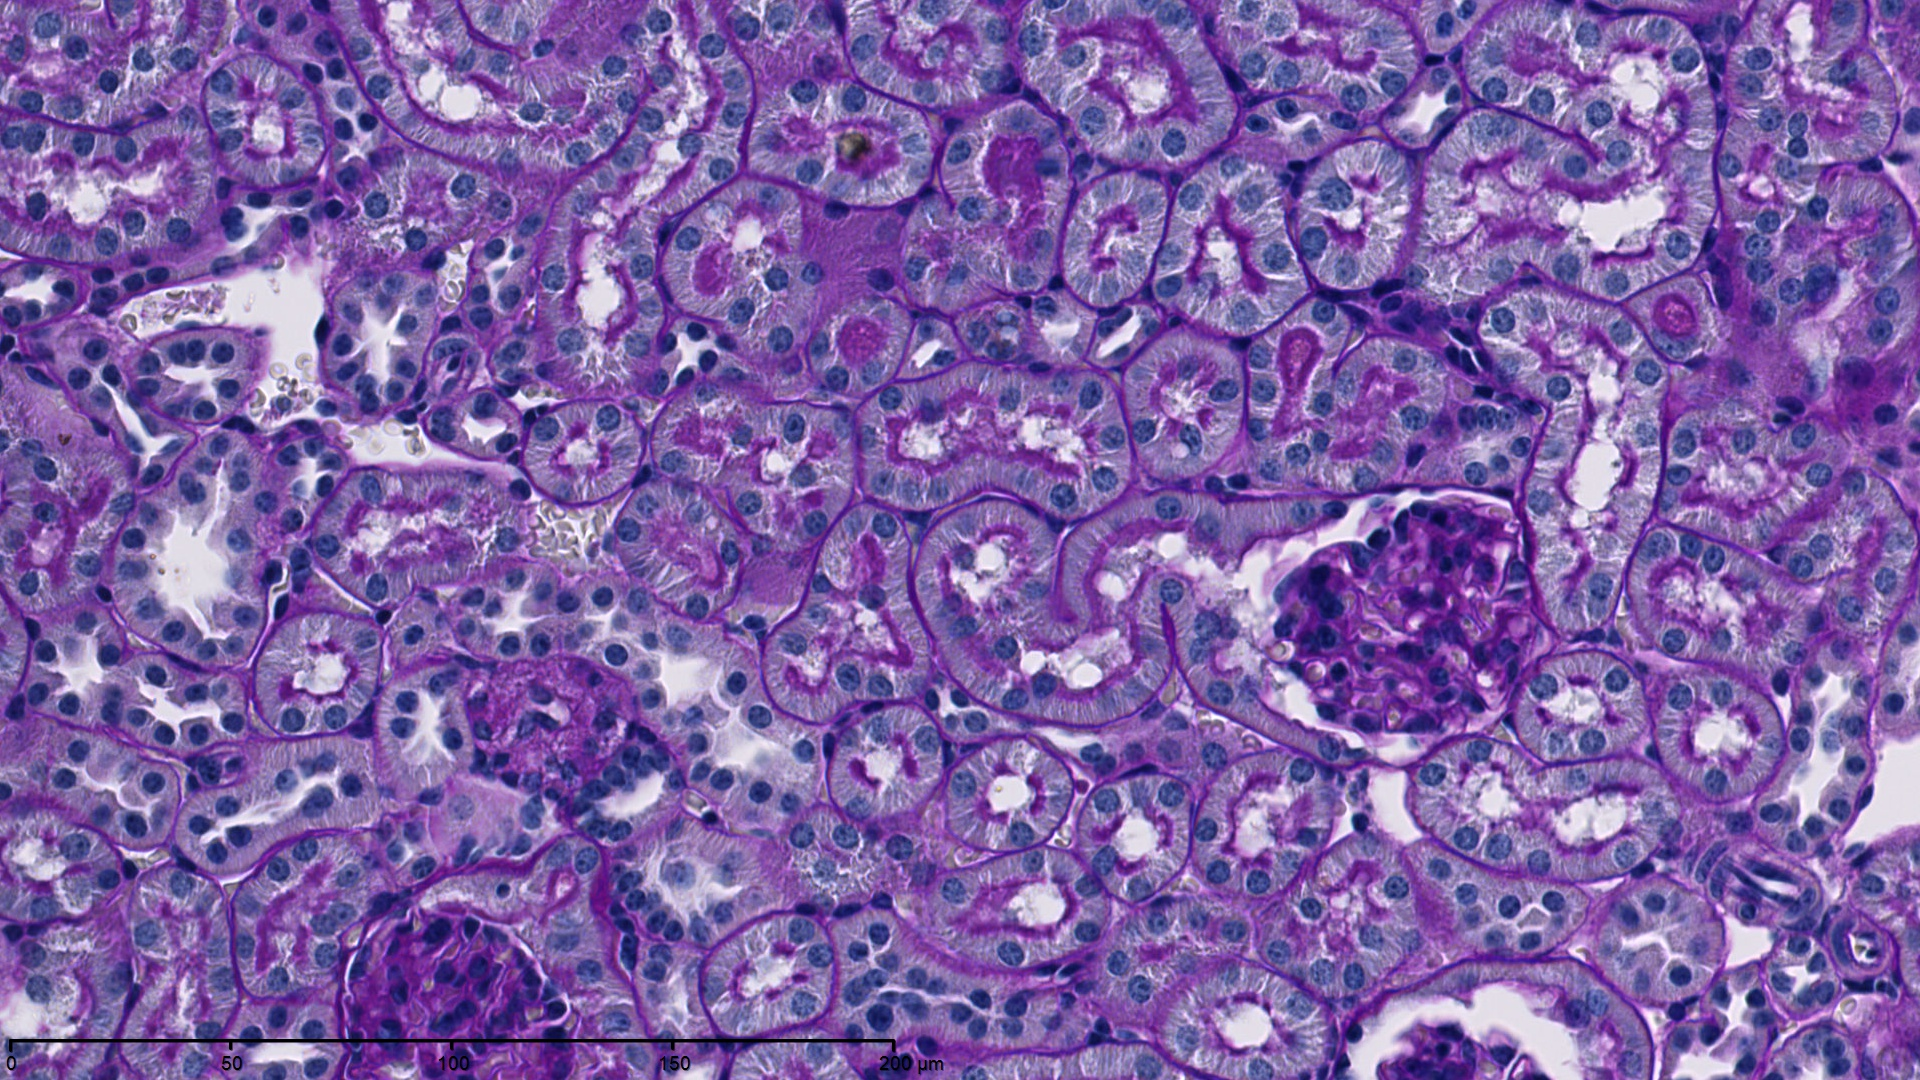Glomeruli: (1257, 487, 1555, 744), (330, 905, 591, 1076)
